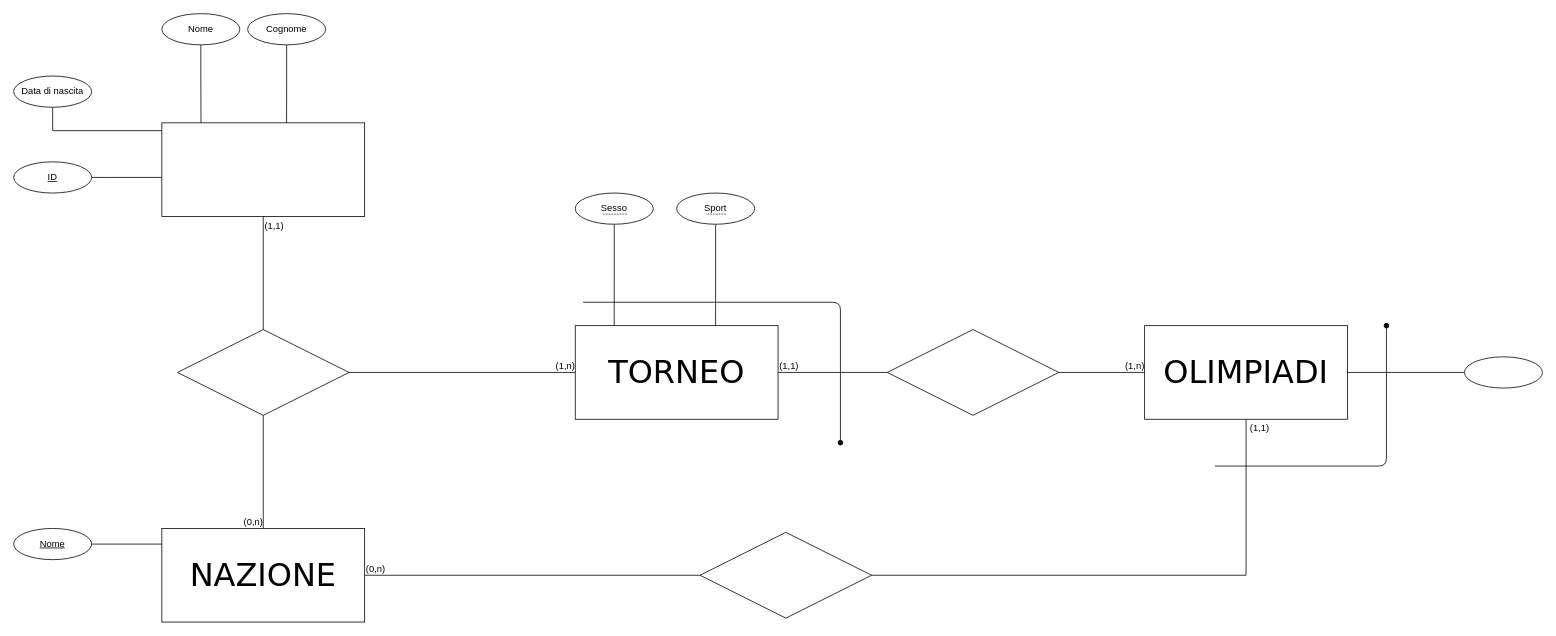
Image size: 1556x636. Some labels were removed from this diagram. The shapes that lost their labels are listed below. From the top down, each one's centre as x and y in pixels, then its label:
At pixel 263 169: "ATLETA".
At pixel 263 372: "Compete".
At pixel 972 372: "Organizza".
At pixel 1503 372: "Anno".
At pixel 785 575: "Ospita".
